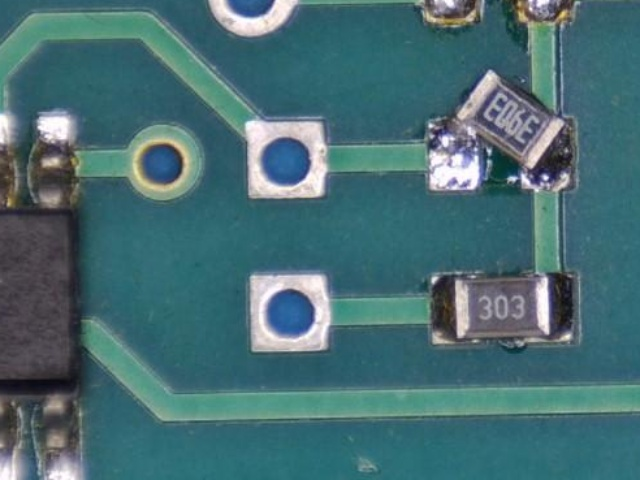pcb_defect: (426, 66, 578, 193)
